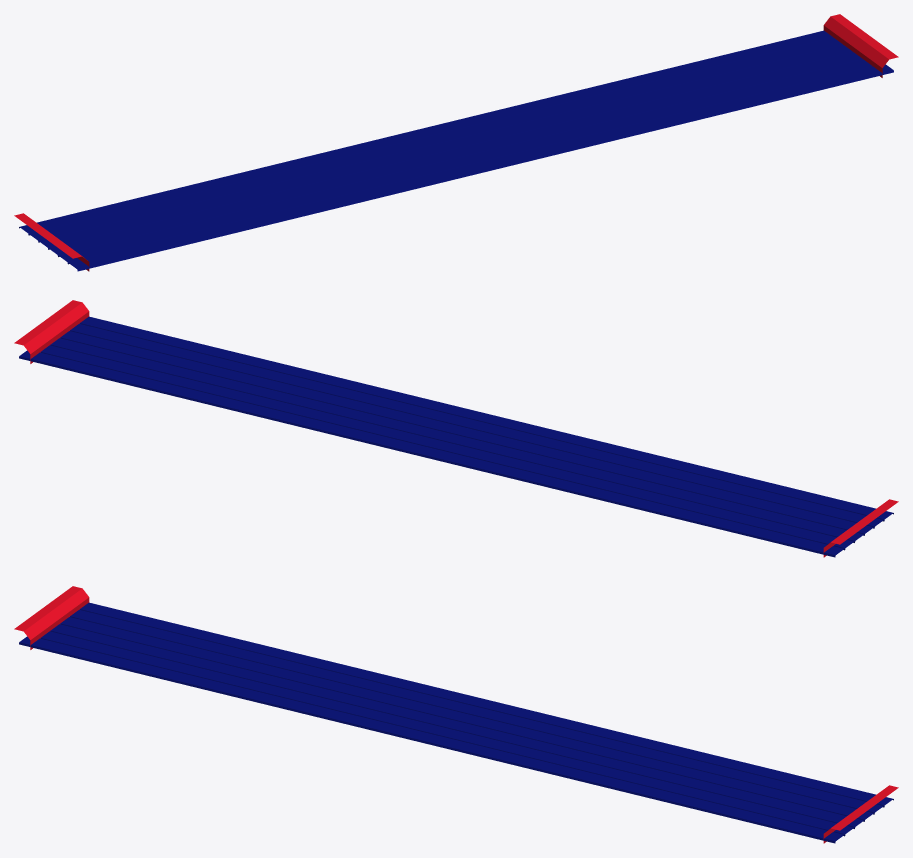
File: sol.fbx
The picture shows the model from 3 angles, top to bottom: view 1: azimuth 30°, elevation 25°; view 2: azimuth 150°, elevation 25°; view 3: azimuth 330°, elevation 25°; orthographic projection.
Visible parts, largest first — view 1: Plane.010; view 2: Plane.010; view 3: Plane.010.
Boxes of the visible parts, x1,y1,x2,y2 form: Plane.010: (14, 14, 898, 271); Plane.010: (14, 300, 898, 557); Plane.010: (14, 586, 898, 843).
Bounding box in the file's own units: 809 × 16.11 × 100.
